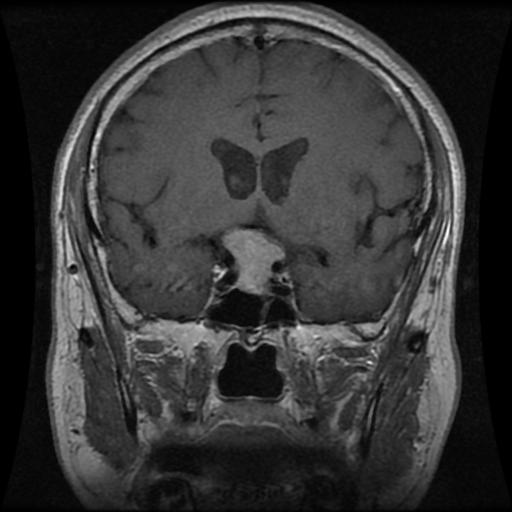Pituirity_tumour: (222, 230, 282, 293)
